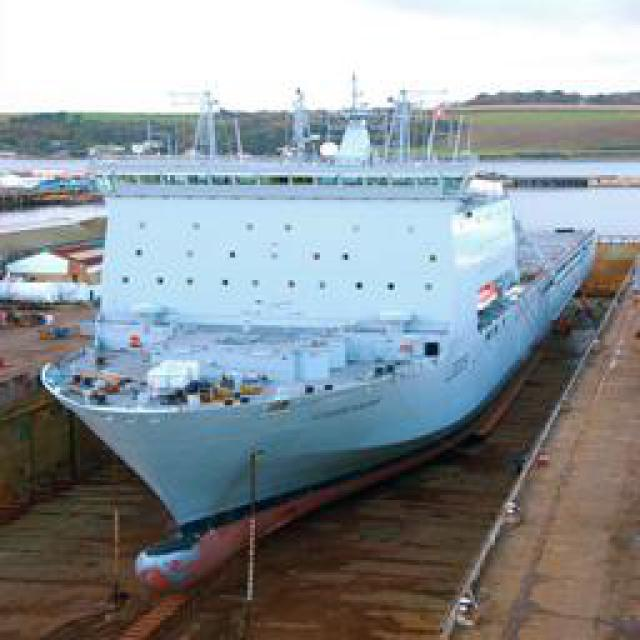Ship: (40, 132, 598, 582)
